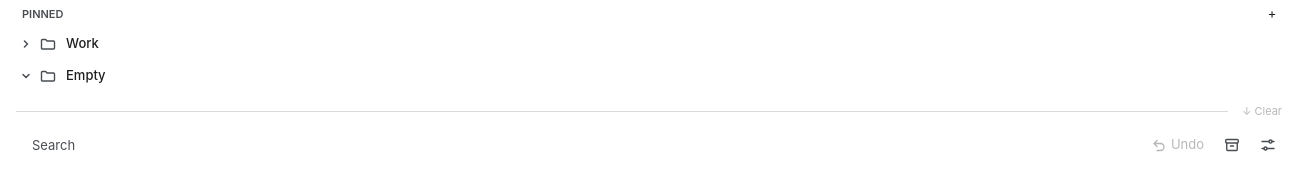
Test: shows a match inside a collapsed Folder with its Folder path and no Folder row
This screenshot has width=1292, height=175.
Type "spec" into the search field. click: {"x": 579, "y": 145}
box: [22, 131, 1137, 159]
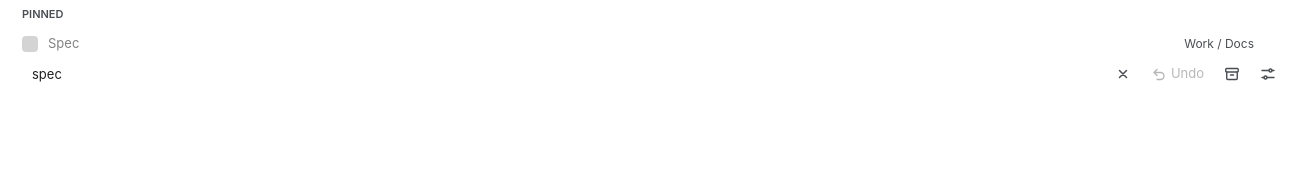
expect the button "Spec Work / Docs" is shown: met, box [12, 28, 1264, 60]
expect the text "Work / Docs" is shown: met, box [1184, 36, 1254, 52]
expect the button "+" is gone: met
